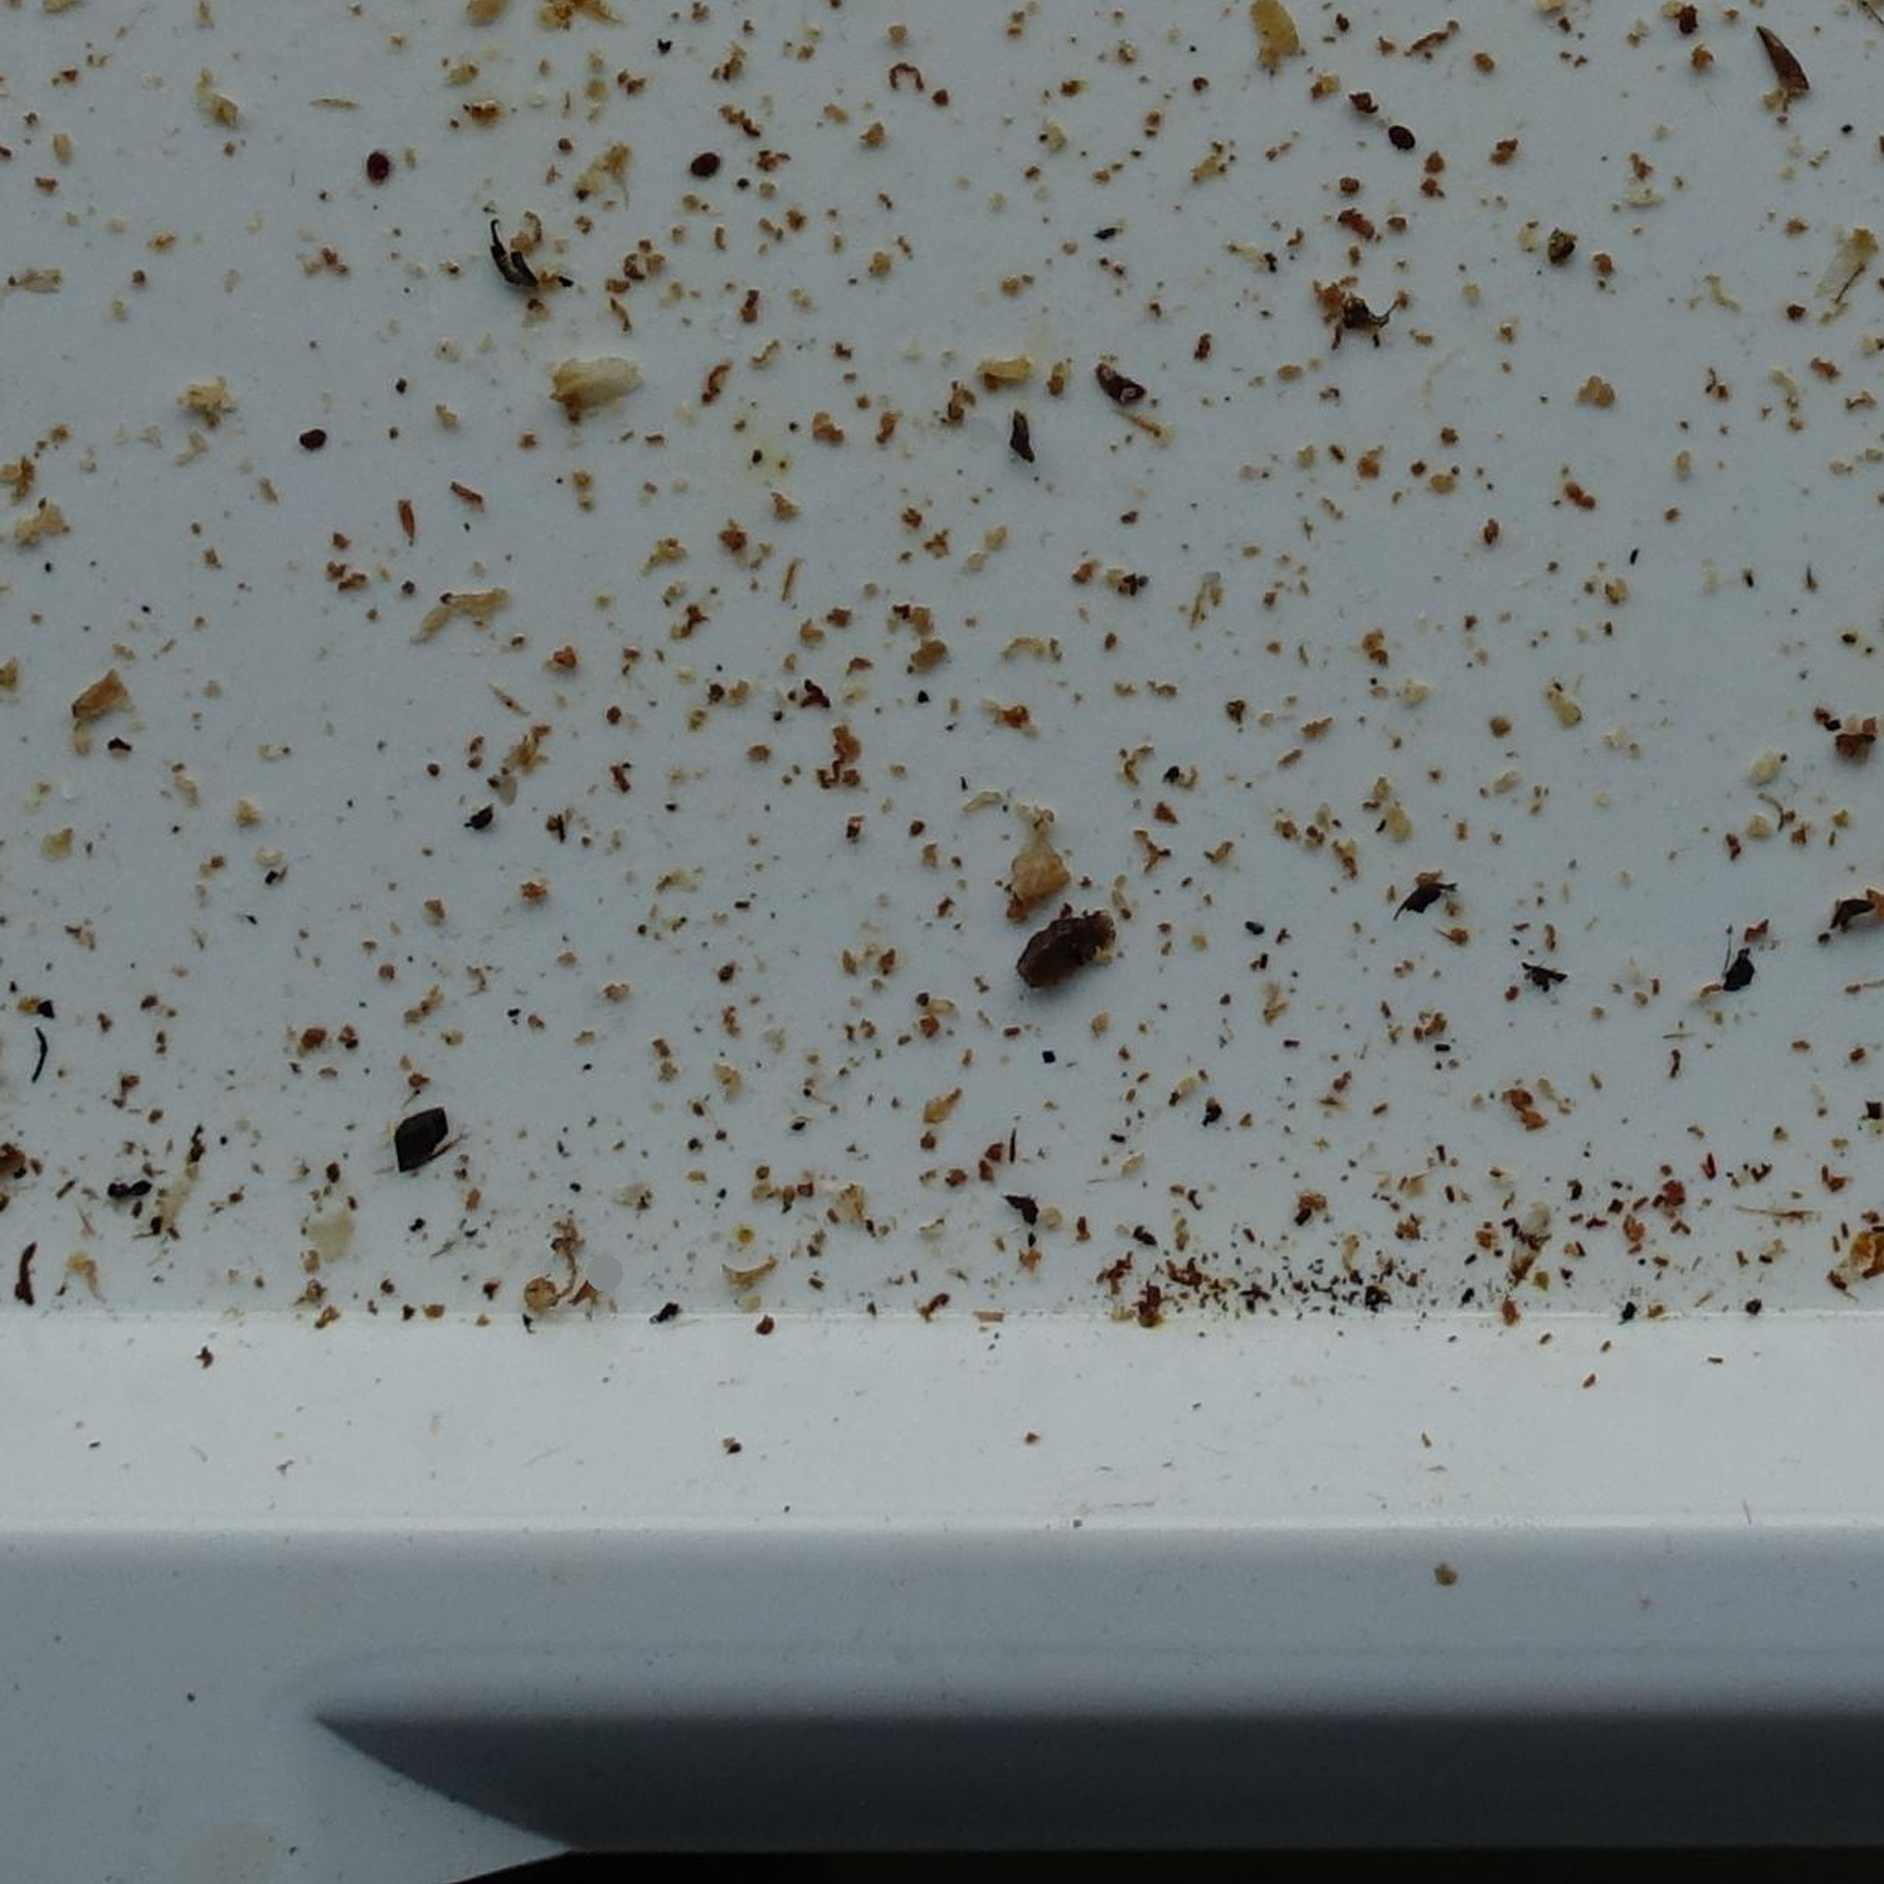Varroa: (695, 147, 725, 171), (300, 424, 324, 449), (1389, 122, 1411, 148), (367, 154, 388, 178)
